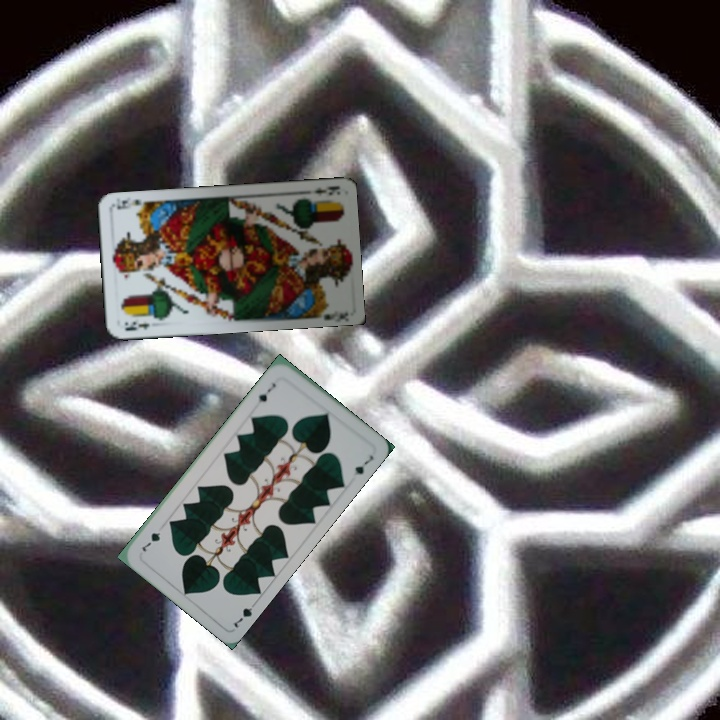EK: (121, 317, 152, 333), (311, 182, 340, 199)
G7: (229, 597, 260, 630), (254, 379, 278, 405)
